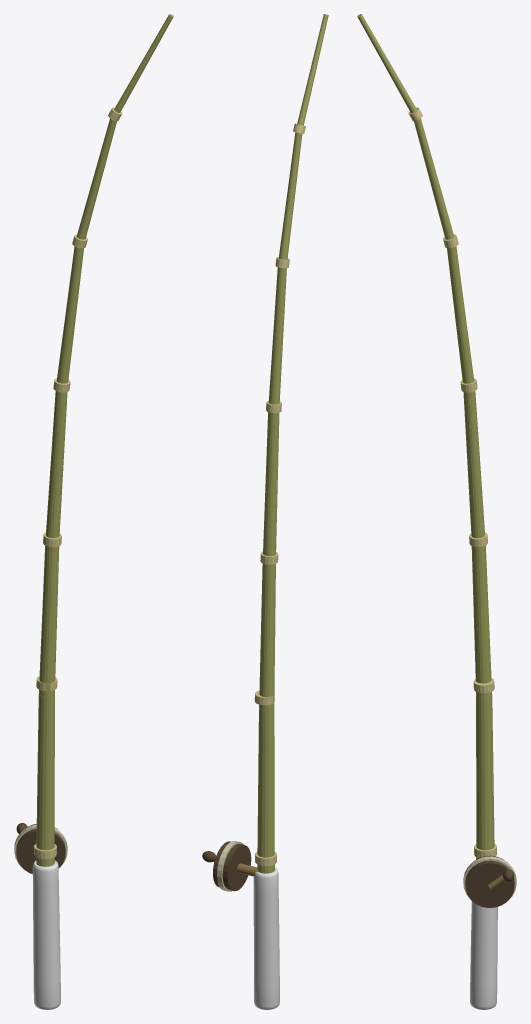
The model's file is BambooRod3308.fbx.
3 renders of one model, left to right at view 1: azimuth 90°, elevation 25°; view 2: azimuth 150°, elevation 25°; view 3: azimuth 270°, elevation 25°, orthographic. The views are drawn at different scales.
Parts seen in each view (by area): view 1: SM_Fisherman_Continuous_Wrapped_Grip.001, Tapered bamboo section.008, Tapered bamboo section.009, Tapered bamboo section.010, Tapered bamboo section.011, Tapered bamboo section.012, Small wooden reel.001, Tapered bamboo section.013; view 2: SM_Fisherman_Continuous_Wrapped_Grip.001, Tapered bamboo section.008, Tapered bamboo section.009, Tapered bamboo section.010, Tapered bamboo section.011, Small wooden reel.001, Tapered bamboo section.012, Tapered bamboo section.013, Reel line spool.001; view 3: SM_Fisherman_Continuous_Wrapped_Grip.001, Tapered bamboo section.008, Tapered bamboo section.009, Tapered bamboo section.010, Small wooden reel.001, Tapered bamboo section.011, Tapered bamboo section.012, Tapered bamboo section.013.
Boxes of the visible parts, left/top/right/bottom form: SM_Fisherman_Continuous_Wrapped_Grip.001: left=32, top=860, right=60, bottom=1009; Tapered bamboo section.008: left=36, top=694, right=54, bottom=850; Tapered bamboo section.009: left=39, top=545, right=59, bottom=697; Tapered bamboo section.010: left=46, top=391, right=67, bottom=538; Tapered bamboo section.011: left=56, top=246, right=83, bottom=383; Tapered bamboo section.012: left=76, top=118, right=116, bottom=239; Small wooden reel.001: left=16, top=824, right=65, bottom=873; Tapered bamboo section.013: left=114, top=14, right=173, bottom=112; SM_Fisherman_Continuous_Wrapped_Grip.001: left=253, top=867, right=279, bottom=1009; Tapered bamboo section.008: left=257, top=707, right=274, bottom=857; Tapered bamboo section.009: left=259, top=563, right=275, bottom=710; Tapered bamboo section.010: left=263, top=412, right=279, bottom=556; Tapered bamboo section.011: left=268, top=267, right=286, bottom=404; Small wooden reel.001: left=213, top=841, right=251, bottom=891; Tapered bamboo section.012: left=278, top=132, right=302, bottom=259; Tapered bamboo section.013: left=297, top=14, right=328, bottom=125; Reel line spool.001: left=217, top=840, right=243, bottom=891; SM_Fisherman_Continuous_Wrapped_Grip.001: left=470, top=901, right=497, bottom=1009; Tapered bamboo section.008: left=476, top=694, right=494, bottom=850; Tapered bamboo section.009: left=471, top=545, right=491, bottom=697; Tapered bamboo section.010: left=463, top=391, right=484, bottom=538; Small wooden reel.001: left=465, top=855, right=514, bottom=907; Tapered bamboo section.011: left=447, top=246, right=474, bottom=383; Tapered bamboo section.012: left=414, top=118, right=454, bottom=239; Tapered bamboo section.013: left=357, top=14, right=416, bottom=112.
Bounding box in the file's own units: 15.56 × 222 × 32.42.
